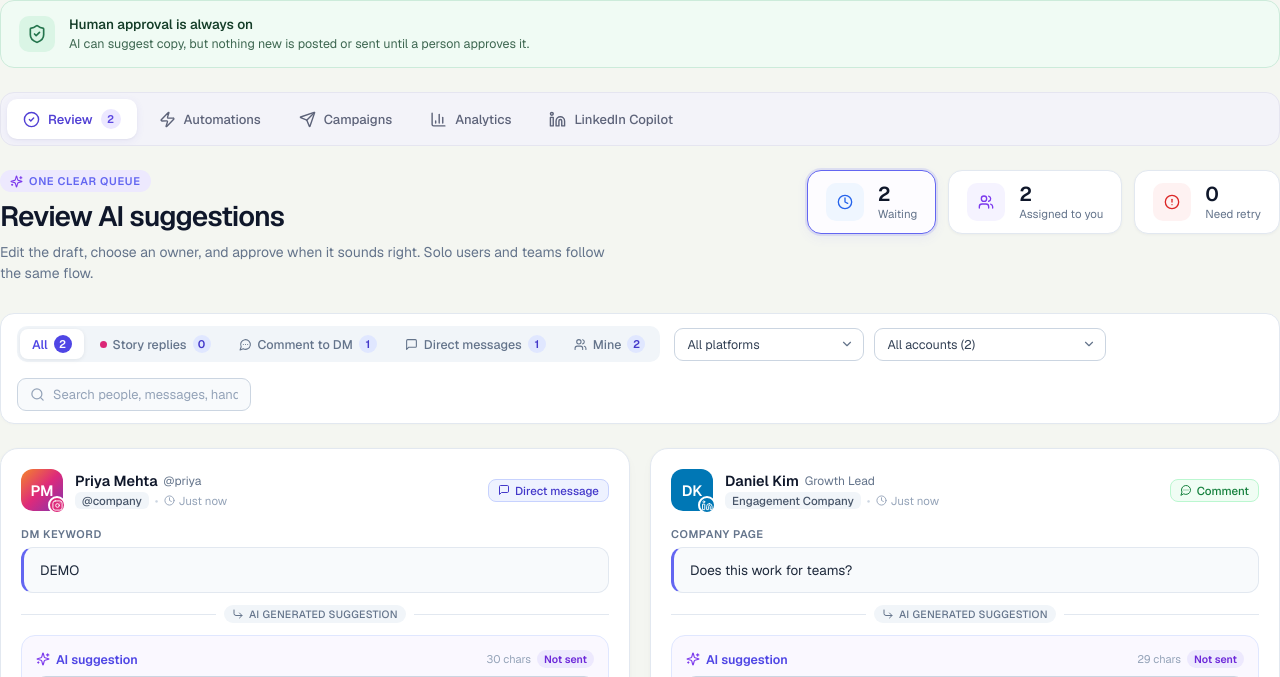
Test: EngagementHubView › shows the destination account and filters reviews by connected account
Check: the text "Priya Mehta" is shown, box [75,472,158,490]
Select "Engagement Company · LinkedIn" in the dropdown named "Connected account" at (990, 344), box [874,328,1106,361]
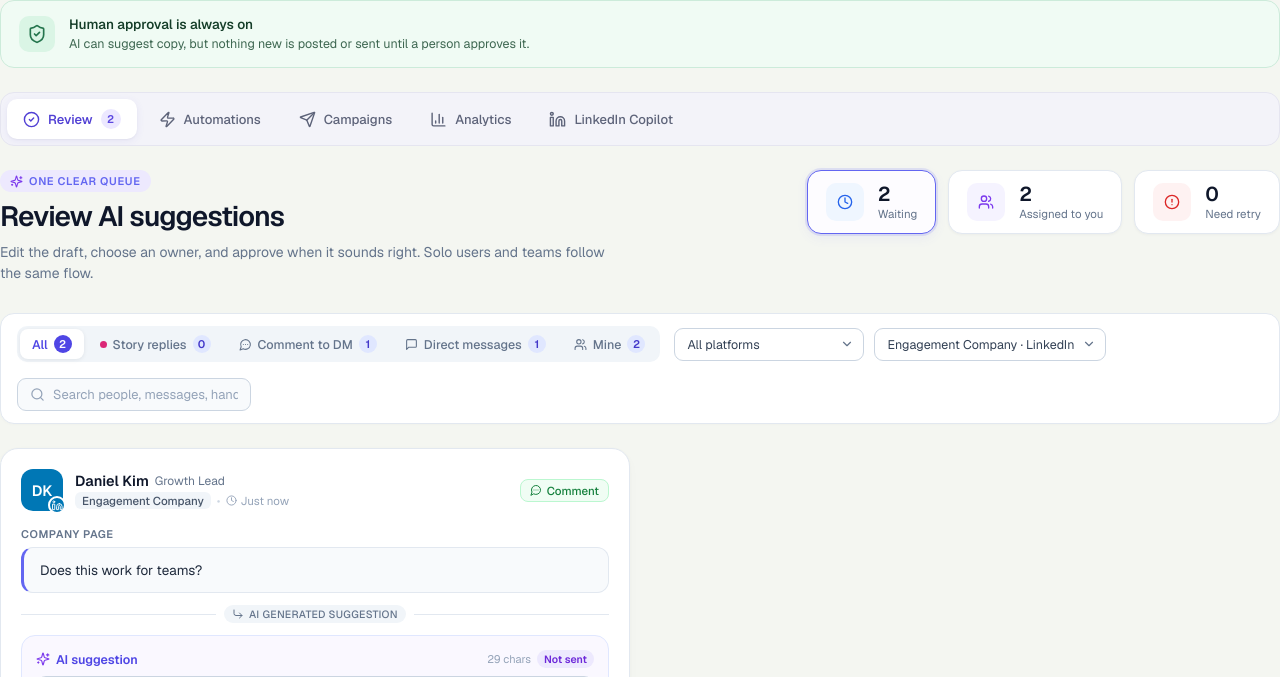
Check: the text "Daniel Kim" is shown, box [75,472,149,490]
Check: the text "Priya Mehta" is gone
